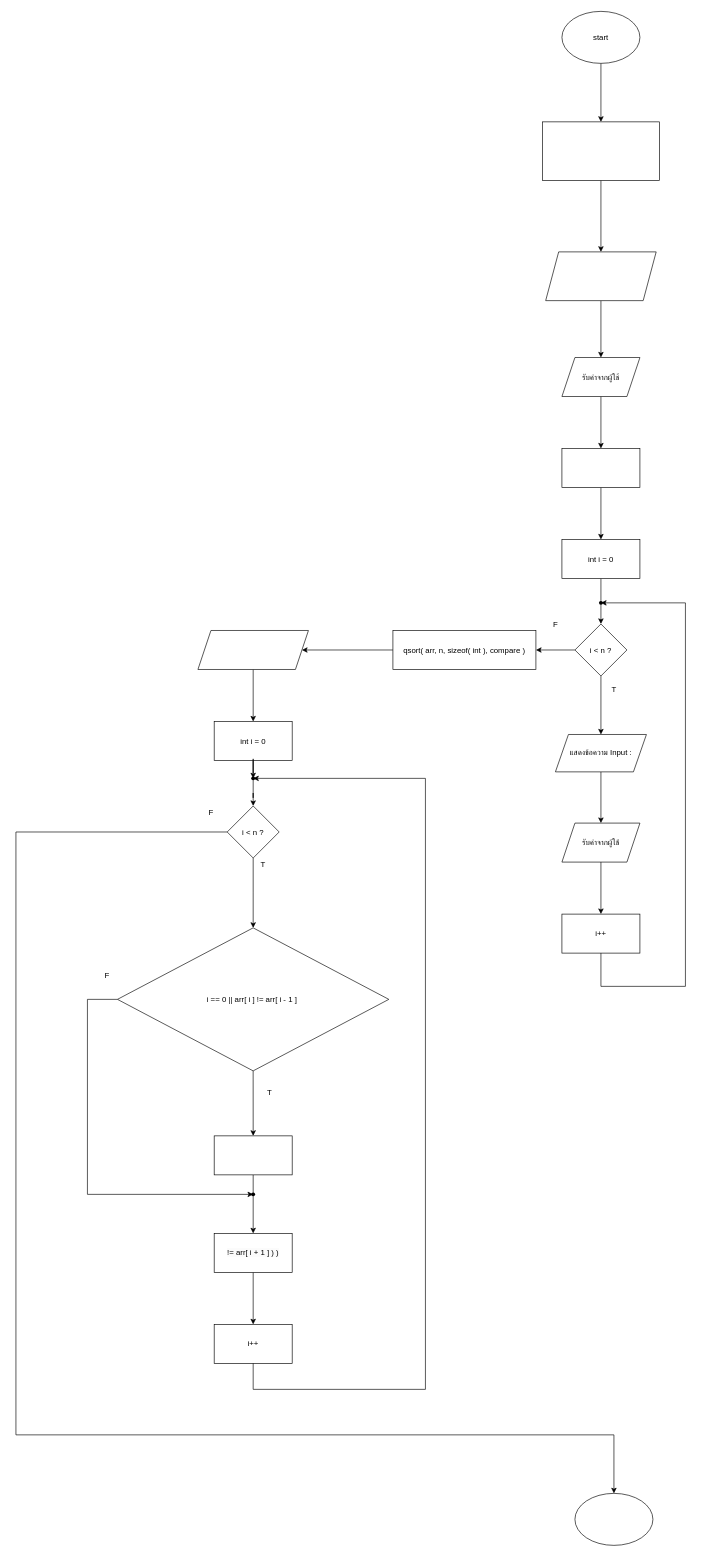
Image size: 702x1557. Some labels were removed from this diagram. Each missing label, with the centre of its shape:
"&& i == n -1 || arr[ i ]" belongs at pixel 253 1155.
"end" belongs at pixel 613 1519.
"กำหนด arr[ n ]" belongs at pixel 600 468.
"สร้างตัวแปร n เพื่อรับค่าจากผู้ใช้" belongs at pixel 600 150.
"แสดงข้อความ Input N :" belongs at pixel 600 276.
"แสดงคำว่า Unique value :" belongs at pixel 252 650.
